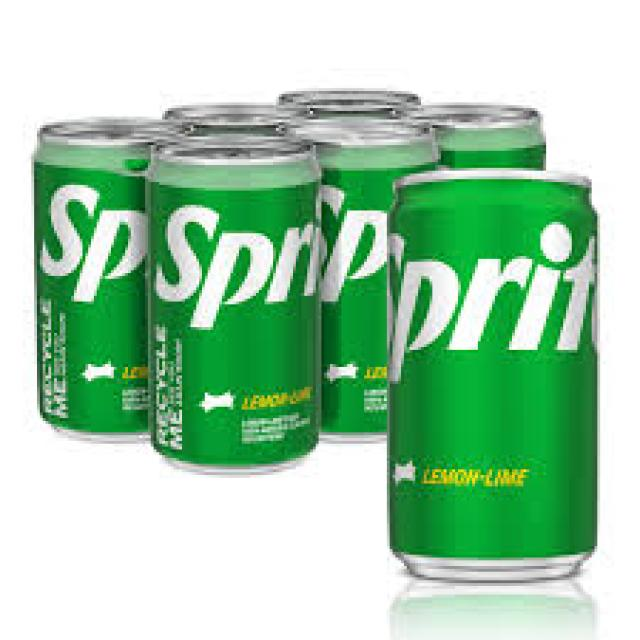Cans: (372, 162, 612, 583), (137, 128, 327, 478)
